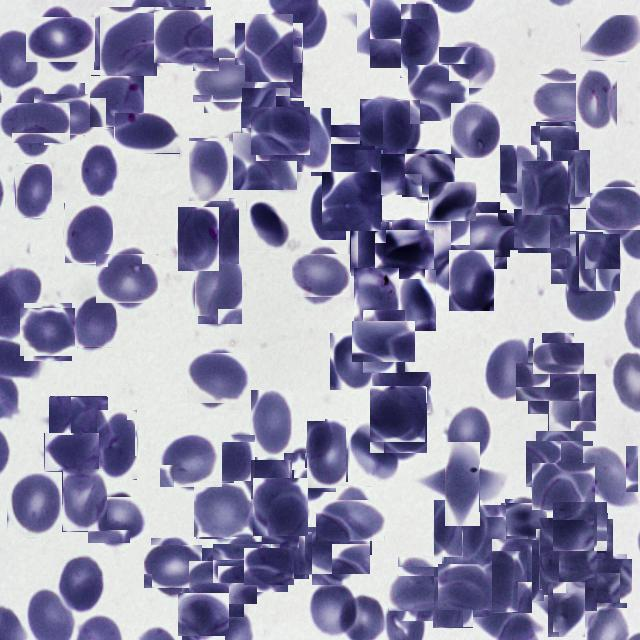red blood cell: (97, 9, 160, 72), (233, 133, 297, 190), (6, 473, 62, 538), (432, 454, 492, 514), (322, 172, 382, 232), (582, 446, 638, 510), (363, 3, 422, 62), (408, 64, 468, 122), (49, 396, 108, 454), (195, 479, 253, 538), (307, 522, 365, 580), (162, 432, 220, 490), (240, 18, 298, 76), (5, 94, 62, 152), (32, 11, 90, 68), (280, 108, 331, 172), (484, 336, 534, 401), (190, 350, 247, 407), (531, 436, 588, 493), (195, 256, 242, 325), (253, 478, 308, 536), (567, 256, 614, 323), (198, 52, 254, 108), (534, 69, 590, 125), (194, 554, 250, 610), (99, 250, 155, 306), (156, 8, 212, 64), (457, 208, 512, 264), (323, 493, 379, 548), (491, 539, 532, 614), (346, 424, 399, 482), (64, 203, 114, 264), (444, 404, 493, 466), (371, 387, 426, 442), (550, 548, 605, 603), (434, 500, 483, 561), (532, 463, 595, 510), (306, 419, 348, 489), (393, 562, 447, 616), (220, 536, 274, 590), (372, 402, 426, 456), (253, 104, 307, 158), (254, 38, 302, 98), (96, 410, 137, 480), (497, 540, 544, 601), (90, 493, 144, 546), (90, 75, 144, 128), (441, 560, 494, 614), (462, 505, 506, 570), (196, 198, 239, 264), (354, 268, 399, 331), (62, 469, 107, 532), (58, 553, 105, 613), (250, 390, 292, 457), (450, 250, 496, 311), (450, 103, 500, 159), (548, 374, 596, 432), (580, 15, 640, 61), (401, 4, 438, 78), (114, 113, 180, 154), (22, 306, 74, 358), (443, 42, 495, 94), (317, 131, 369, 183), (551, 232, 603, 284), (362, 97, 414, 149), (516, 198, 568, 250), (358, 316, 410, 368), (554, 501, 606, 553), (590, 182, 640, 236), (38, 89, 90, 140), (241, 88, 290, 142), (310, 579, 358, 634), (576, 68, 617, 132), (188, 138, 229, 202), (178, 207, 219, 271), (330, 333, 376, 390), (521, 161, 568, 216), (296, 250, 346, 301), (522, 357, 572, 408), (148, 542, 199, 592), (539, 518, 574, 590), (580, 556, 630, 606), (380, 225, 430, 274), (396, 270, 436, 331), (433, 567, 473, 628), (250, 460, 292, 518), (578, 234, 620, 292), (372, 372, 431, 413), (500, 145, 537, 210), (405, 151, 453, 200), (246, 200, 291, 252), (350, 222, 392, 277), (356, 149, 404, 197), (180, 590, 228, 638), (552, 150, 590, 209), (264, 530, 310, 578), (308, 182, 346, 240), (44, 433, 99, 472), (287, 450, 333, 496), (544, 586, 590, 632), (74, 298, 116, 348), (80, 144, 118, 198), (15, 164, 52, 218), (383, 100, 420, 154), (216, 435, 255, 486), (566, 516, 610, 561), (247, 545, 291, 589), (428, 182, 476, 222), (534, 124, 577, 168), (504, 501, 546, 544), (538, 338, 580, 380)
